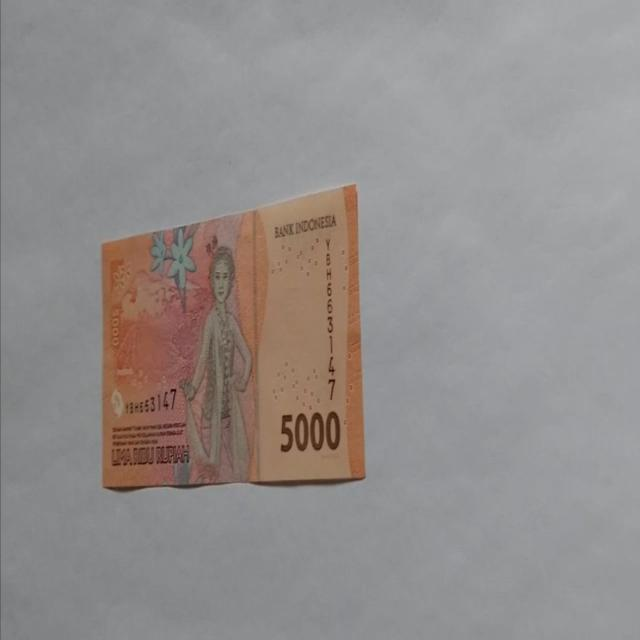lima ribu rupiah: (100, 181, 366, 490), (178, 245, 254, 484)
